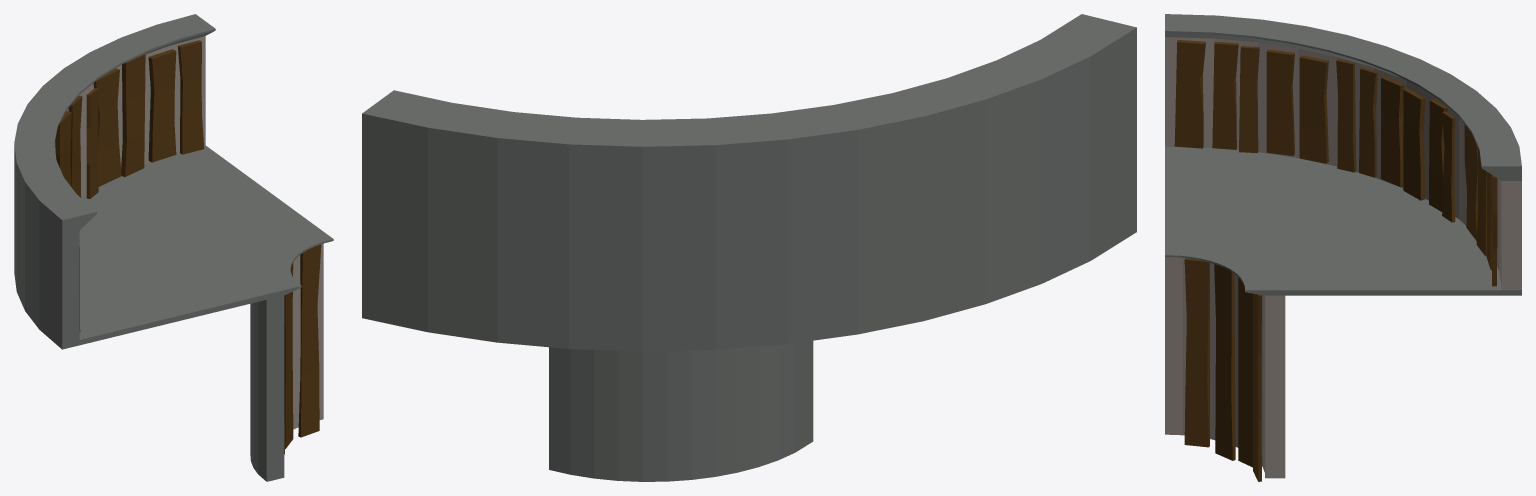
The model's file is Walkway_Harbour_Corner.fbx.
The picture shows the model from 3 angles, left to right: view 1: azimuth 30°, elevation 25°; view 2: azimuth 150°, elevation 25°; view 3: azimuth 270°, elevation 25°; orthographic projection. The views are drawn at different scales.
Parts seen in each view (by area): view 1: Plane; view 2: Plane; view 3: Plane.
Boxes of the visible parts, x1,y1,x2,y2 form: Plane: (14,14,333,481); Plane: (362,14,1136,481); Plane: (1165,14,1521,481).
Size of the model in its own units: 8.94 by 8.82 by 8.86.
